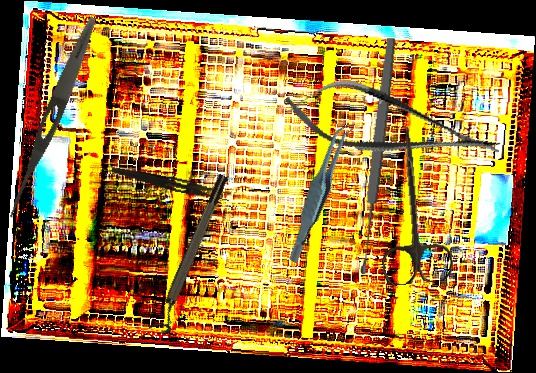Dressing Forceps: (2, 13, 102, 224), (110, 165, 232, 202)
Fixation Ring: (147, 172, 238, 337)
Iris Scissors: (368, 123, 455, 287)
Micro Scissor: (278, 66, 507, 184)
Surgical Spoon: (355, 37, 399, 275)
Tissue Forceps: (262, 121, 377, 265)
